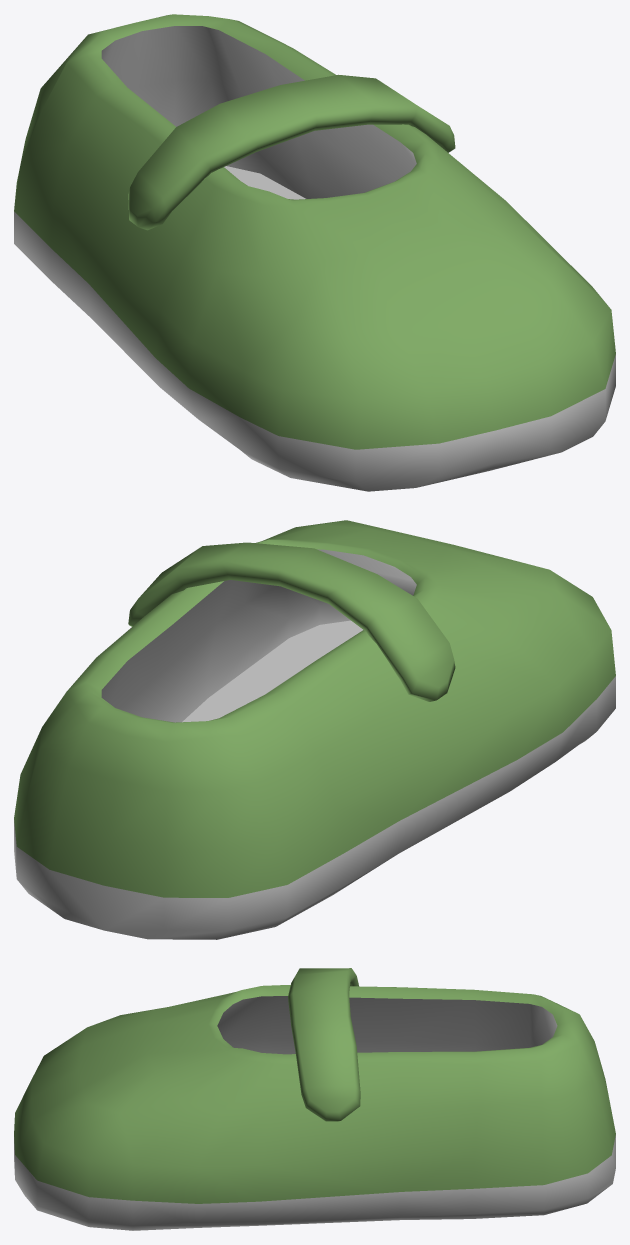
Rendered from Shoe_01.fbx.
3 renders of one model, top to bottom at view 1: azimuth 30°, elevation 25°; view 2: azimuth 150°, elevation 25°; view 3: azimuth 270°, elevation 25°, orthographic. The views are drawn at different scales.
Visible parts, largest first — view 1: Shoe_01; view 2: Shoe_01; view 3: Shoe_01.
Boxes of the visible parts, x1,y1,x2,y2 form: Shoe_01: [14, 14, 615, 491]; Shoe_01: [14, 520, 615, 939]; Shoe_01: [14, 968, 615, 1230].
Bounding box in the file's own units: 0.0707 × 0.0419 × 0.1281.
